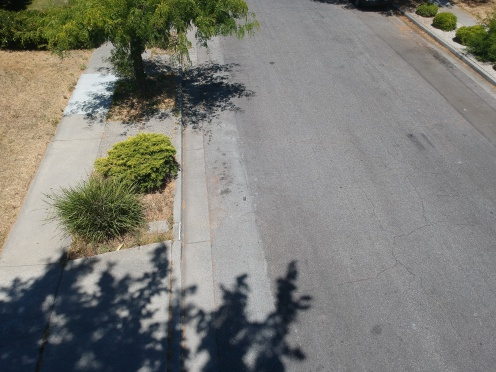can: (236, 192, 250, 203)
